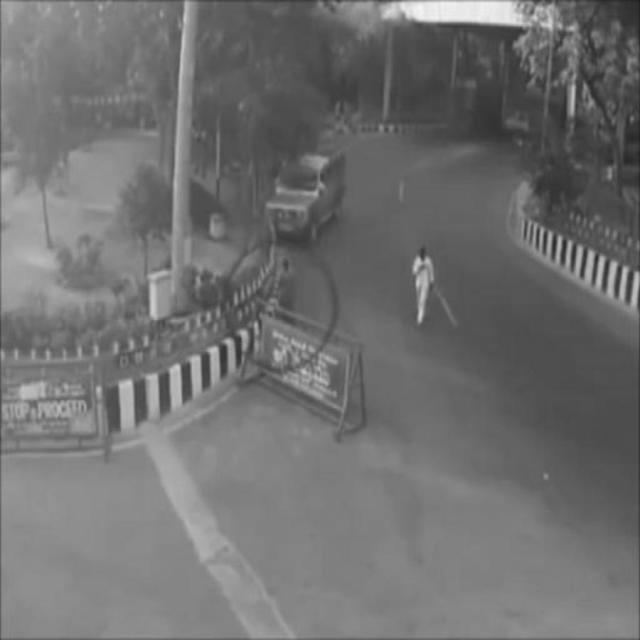vehicle: (266, 146, 354, 237), (407, 246, 434, 330), (278, 258, 298, 329)
